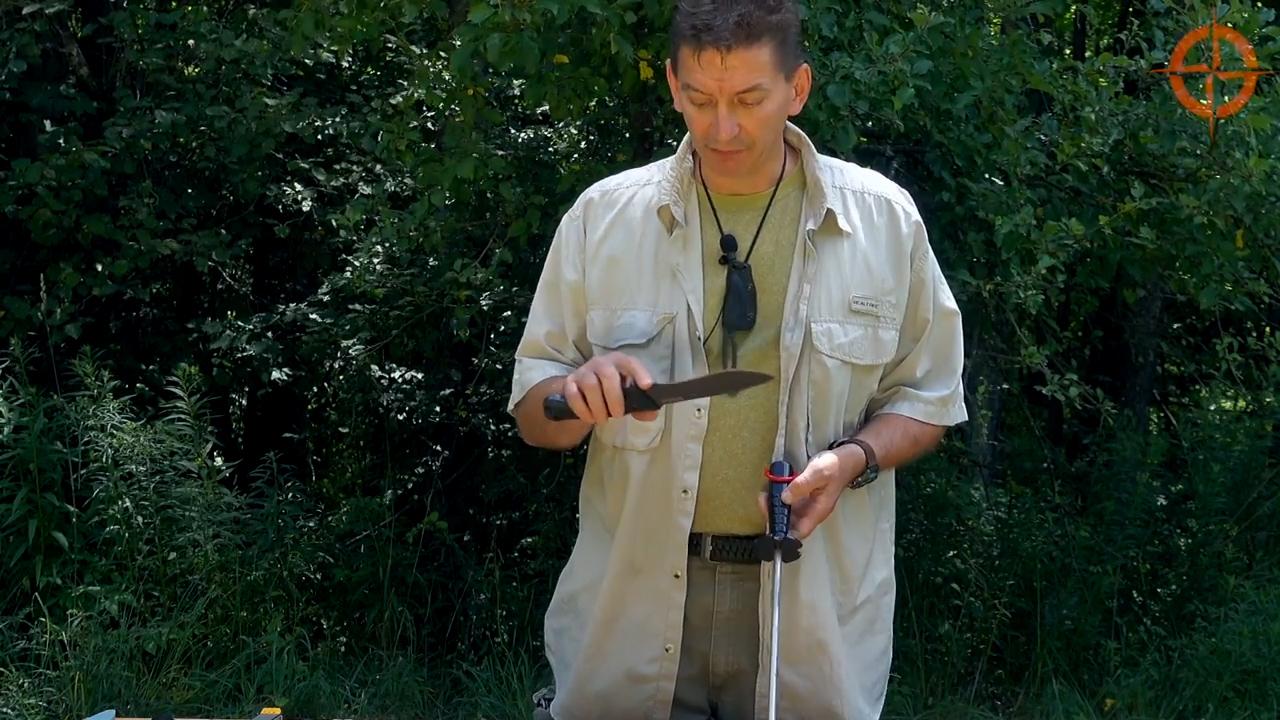knife: (536, 351, 778, 425)
